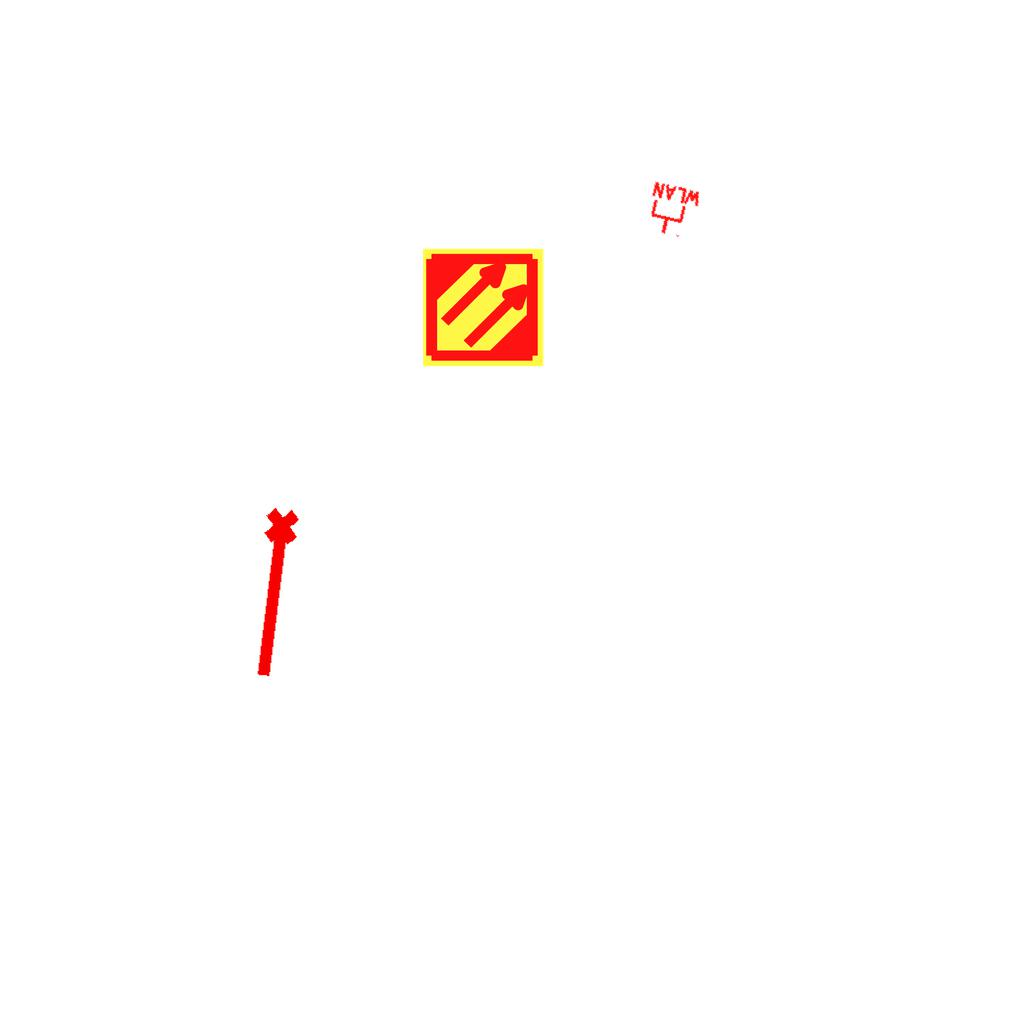ASR_Ansaugoeffnung: (242, 503, 310, 685)
ASR_Ansaugrauchmelder: (421, 245, 546, 370)
WLAN: (641, 179, 705, 243)
